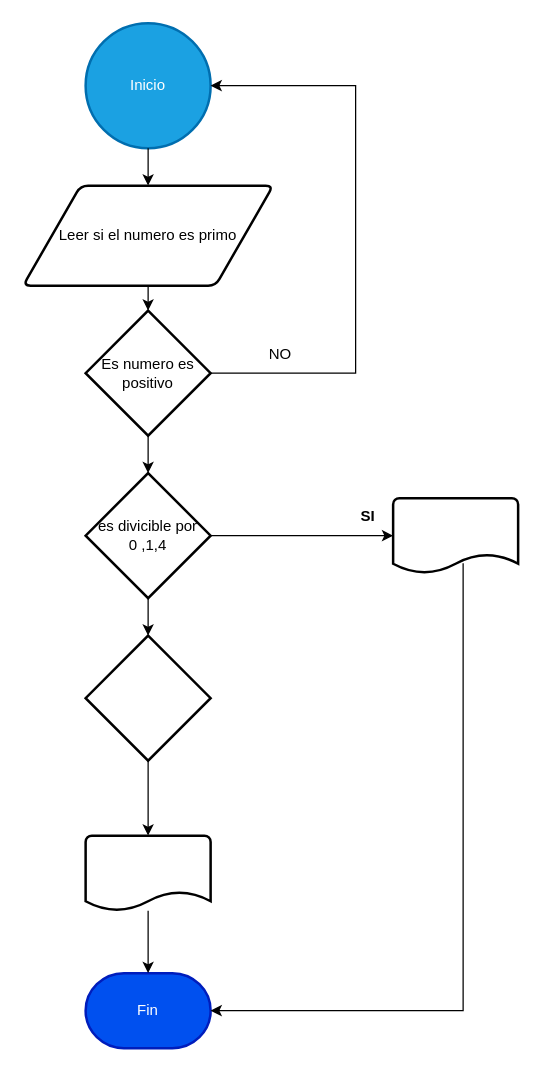
Image size: 540x1070. Some labels were removed from this diagram. Each missing label, with the centre of its shape:
es divicible por si mismo: the point at 147,697
Es Primo: the point at 147,872
No es primo: the point at 455,535
